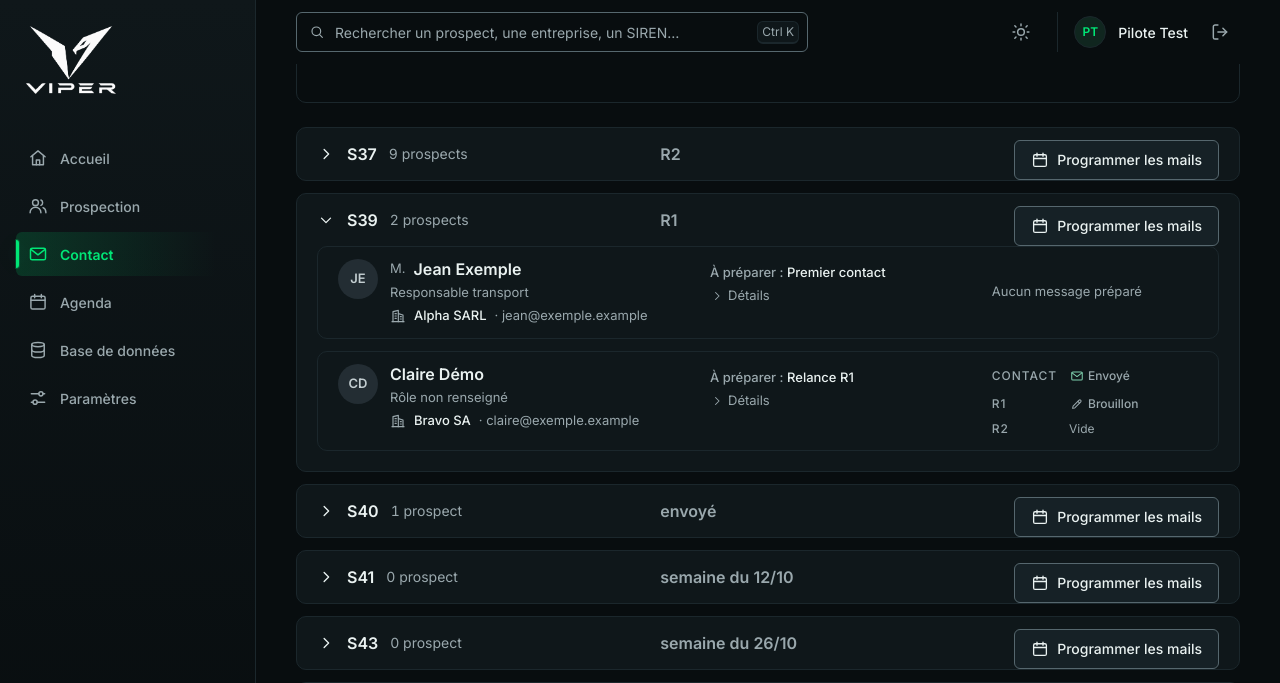
Test: Contact page › keeps the planned week and « Échu » behind a small tab, shown only when opened
This screenshot has width=1280, height=683.
(page scrolled)
expect the list item "Claire Démo" does not show "Échu": met, box [317,351,1219,451]
expect the list item "Claire Démo" does not show "Semaine prévue": met, box [317,351,1219,451]
Click the button "Détails" below "Relance R1".
click(740, 401)  # box [710,391,770,411]
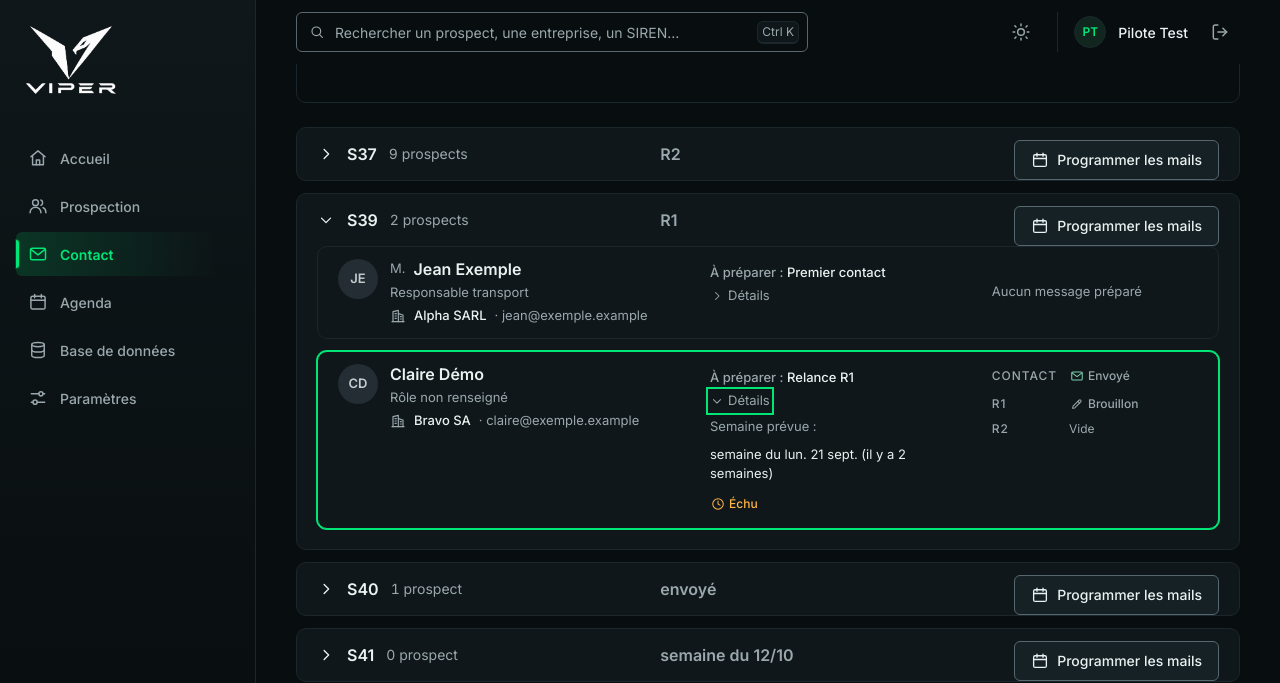
expect the button "Détails" below "Relance R1" is expanded: met
expect the list item "Claire Démo" shows "Échu": met, box [729,496,758,511]
Click the button "Détails" below "Relance R1".
click(740, 401)  # box [710,391,770,411]
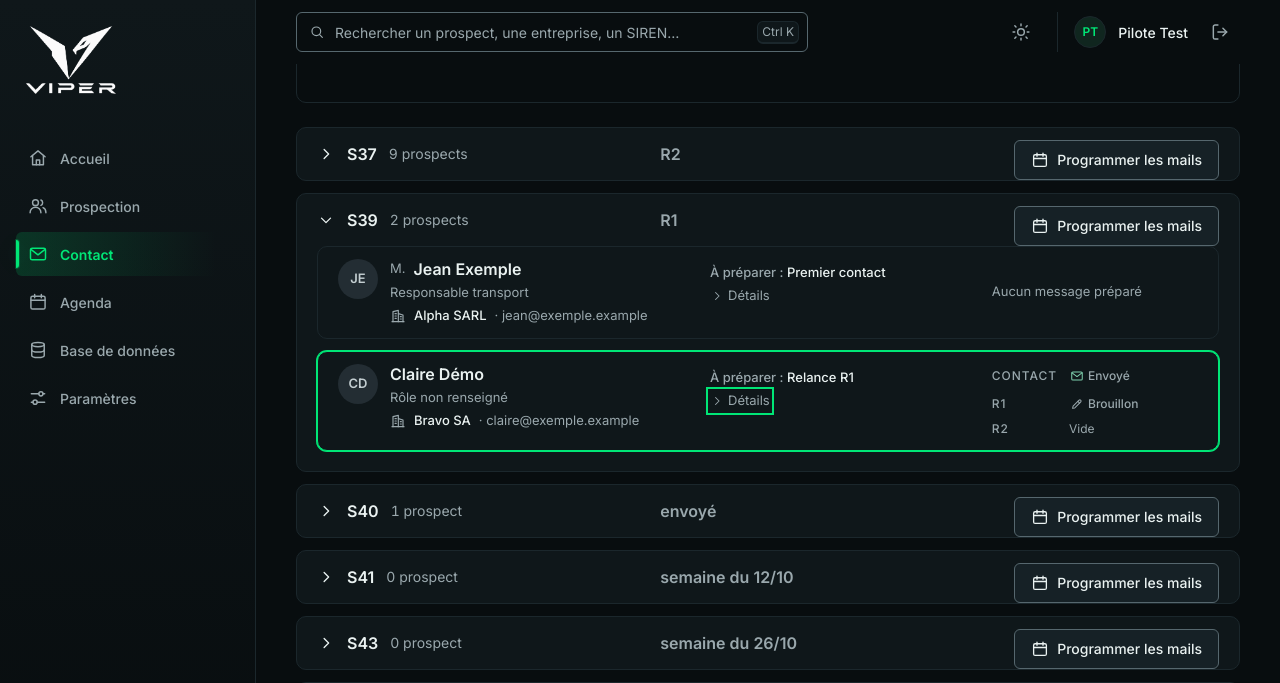
expect the list item "Claire Démo" no longer shows "Échu": met, box [317,351,1219,451]
